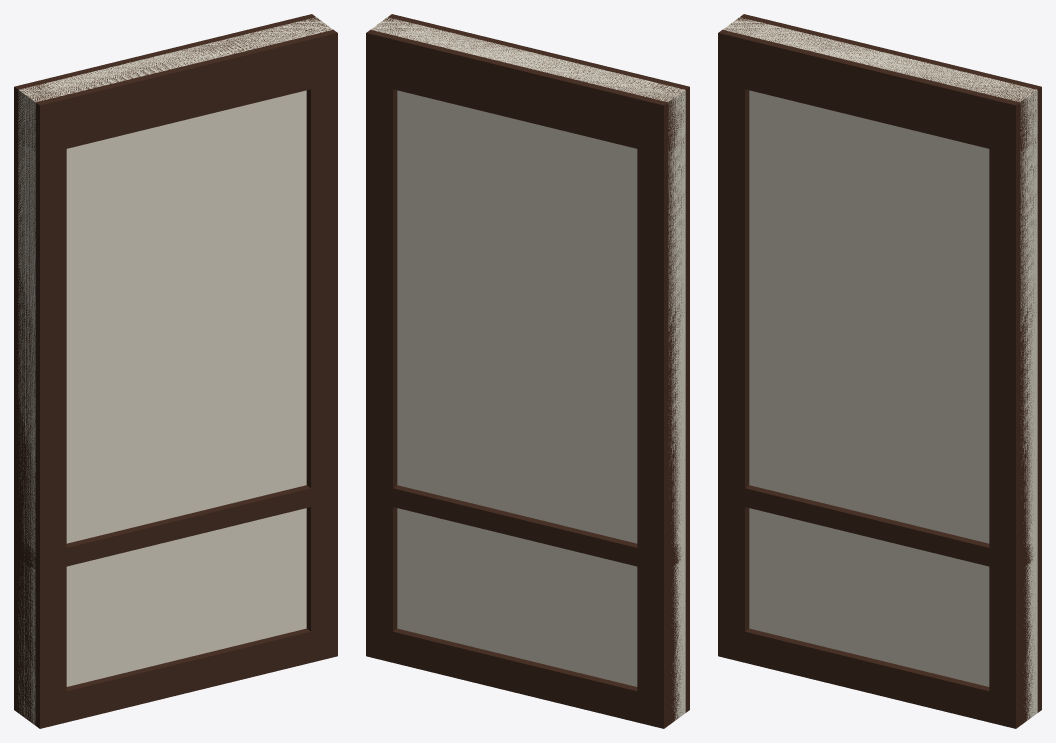
The model's file is jap-parede.gltf.
3 renders of one model, left to right at view 1: azimuth 30°, elevation 25°; view 2: azimuth 150°, elevation 25°; view 3: azimuth 330°, elevation 25°, orthographic.
Visible parts, largest first — view 1: jap-parede; view 2: jap-parede; view 3: jap-parede.
Boxes of the visible parts, x1=… form: jap-parede: x1=14, y1=14, x2=337, y2=728; jap-parede: x1=366, y1=14, x2=689, y2=728; jap-parede: x1=718, y1=14, x2=1041, y2=728.
Size of the model in its own units: 1 by 2 by 0.15.
